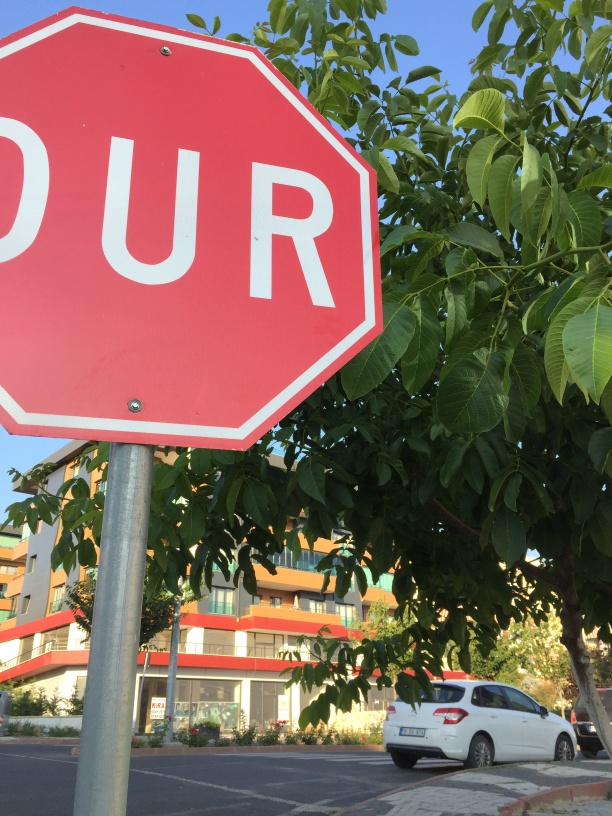arac_dur_isareti: (7, 36, 371, 580)
